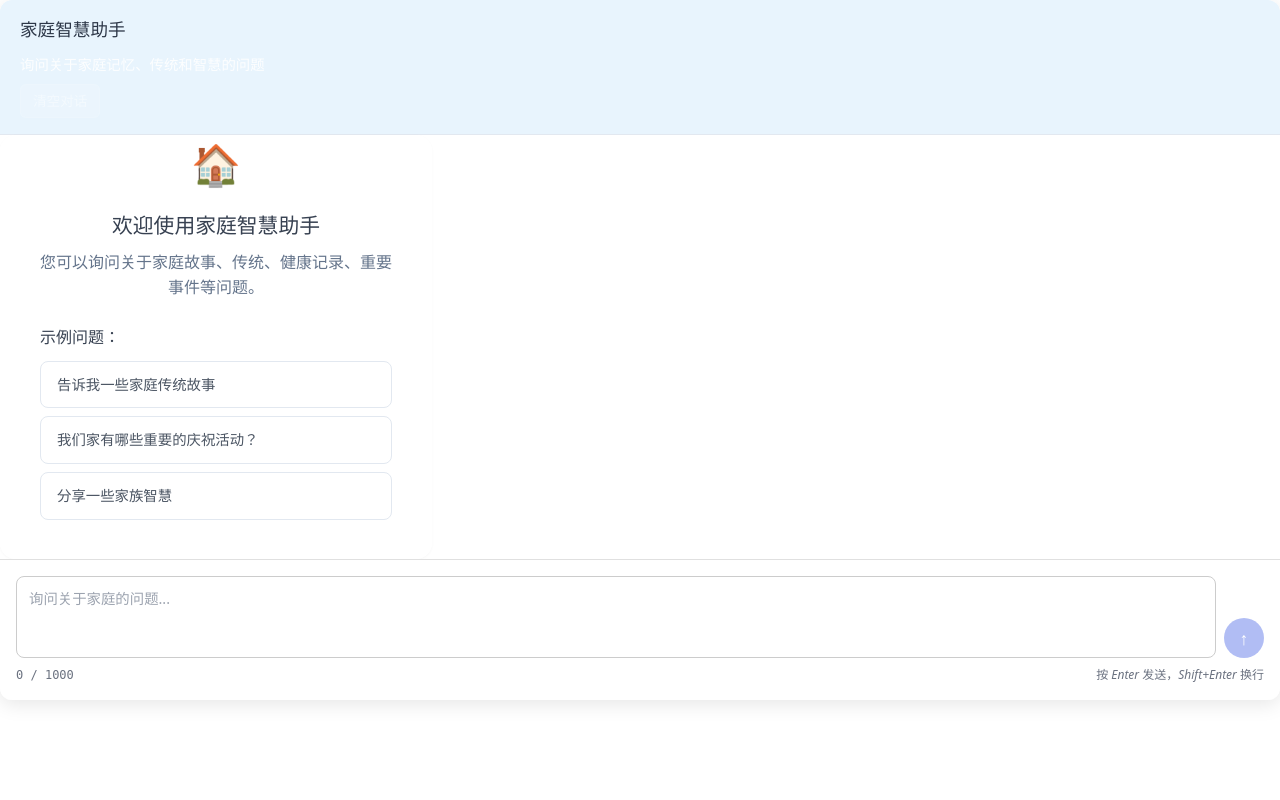
Test: ChatInterface › handles API errors gracefully
(page scrolled)
Click the button "告诉我一些家庭传统故事".
click(216, 385)  # box [40, 361, 392, 408]
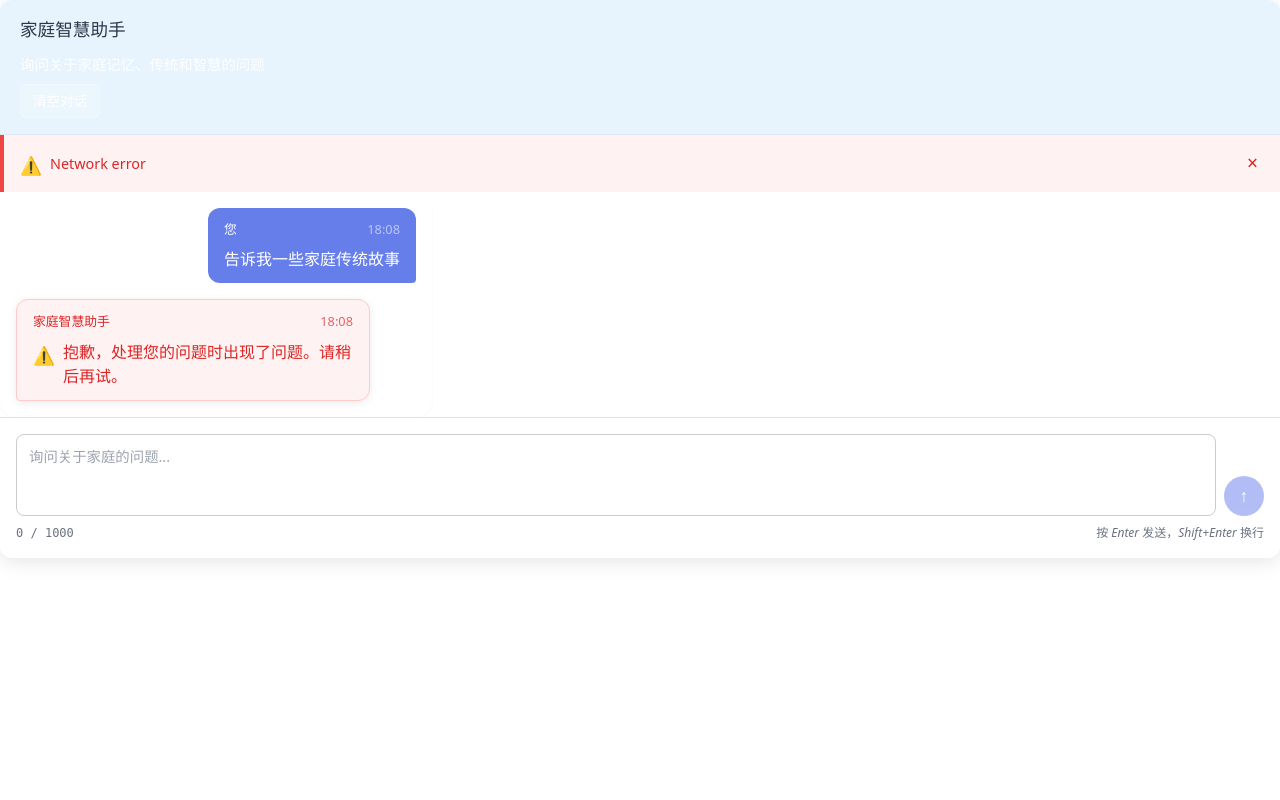
Check: the text "抱歉，处理您的问题时出现了问题。请稍后再试。" is shown, box [63, 340, 353, 388]
